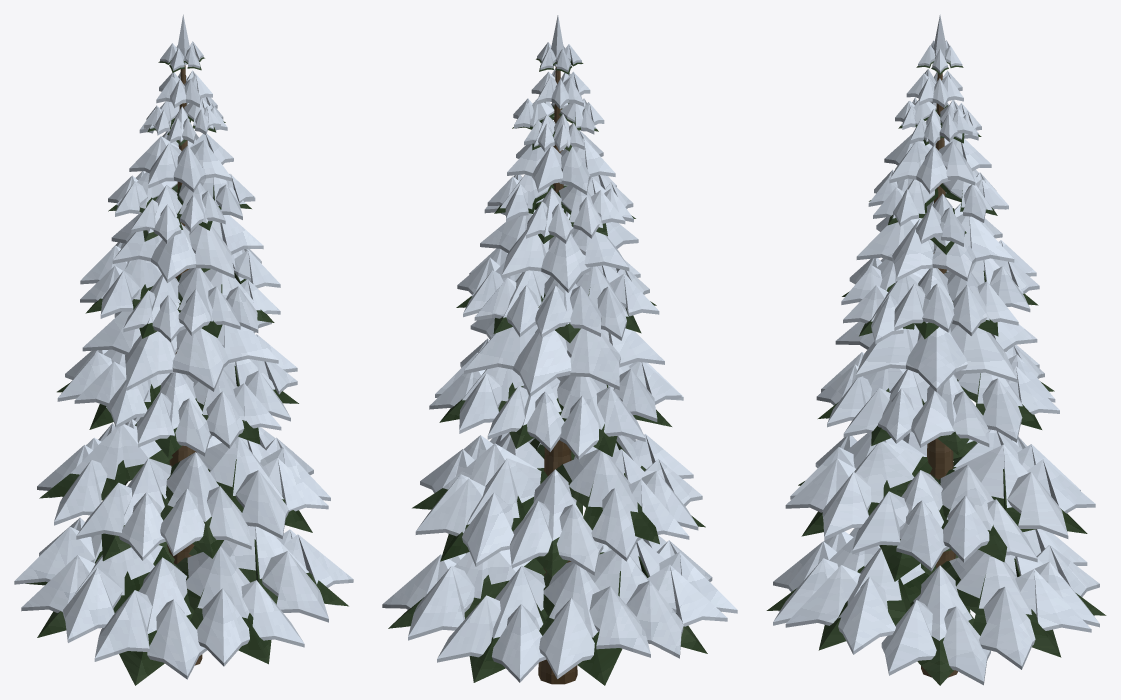
The model's file is tree_snow_02.glb.
The picture shows the model from 3 angles, left to right: view 1: azimuth 30°, elevation 25°; view 2: azimuth 150°, elevation 25°; view 3: azimuth 270°, elevation 25°; orthographic projection. The views are drawn at different scales.
Visible parts, largest first — view 1: tree_snow_02; view 2: tree_snow_02; view 3: tree_snow_02.
Part boxes in pixels (x1,y1,x2,y2): tree_snow_02: (14,14,353,685); tree_snow_02: (382,15,737,685); tree_snow_02: (766,14,1106,685).
Size of the model in its own units: 3.2 by 6.8 by 3.2.
3 materials, 3 textured.
